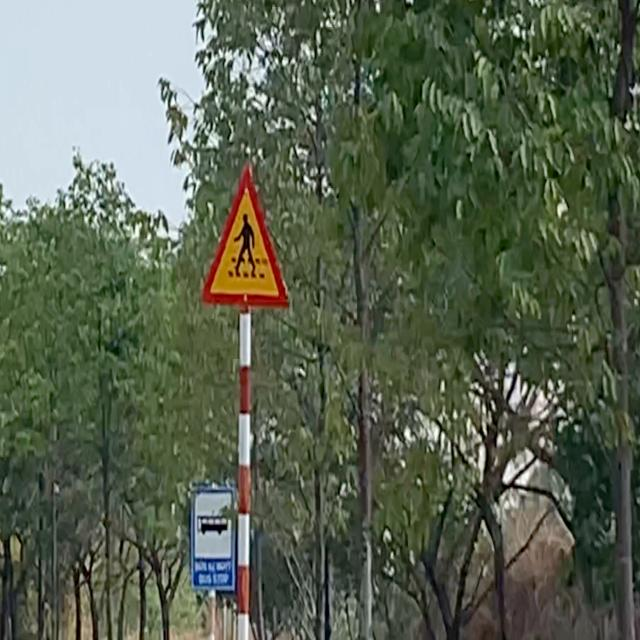Ben xe buyt: (191, 488, 235, 592)
Nguoi di bo cat ngang: (197, 153, 294, 319)
